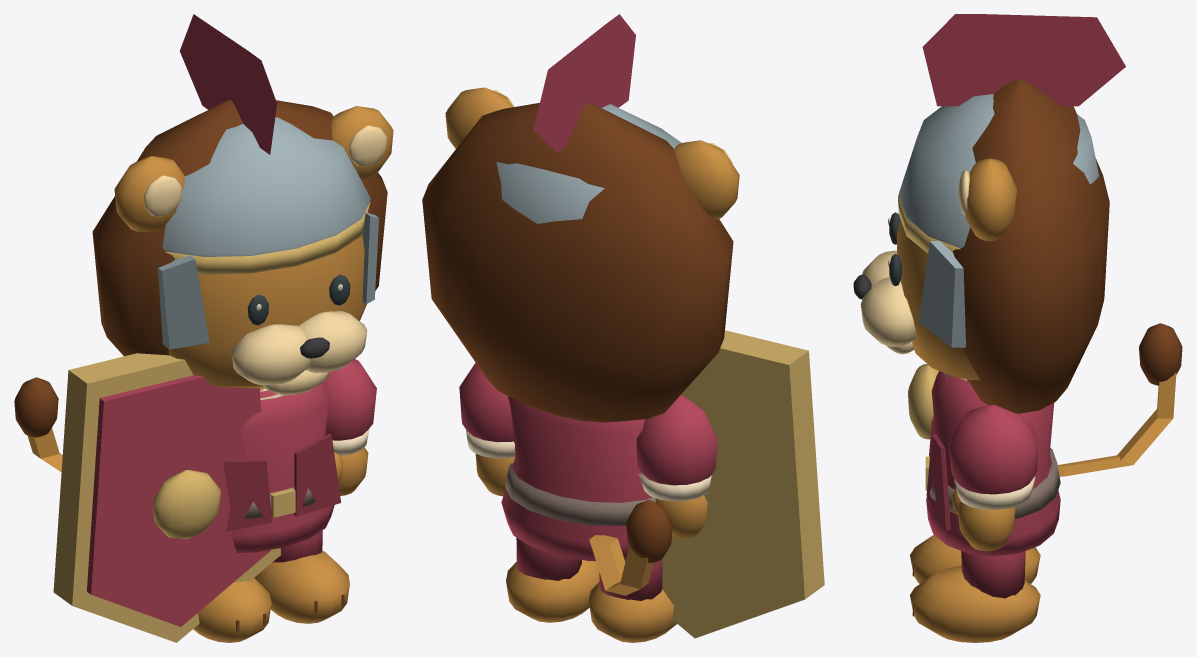
Rendered from guard.glb.
The picture shows the model from 3 angles, left to right: view 1: azimuth 30°, elevation 25°; view 2: azimuth 150°, elevation 25°; view 3: azimuth 270°, elevation 25°; orthographic projection. The views are drawn at different scales.
Parts seen in each view (by area): view 1: Regional shield face, Regional helmet, Lion full mane, Shield gold rim, Animal cheek head, Short folded tunic, Roman horsehair fan, Soft animal paw.001, Lion muzzle, Roman cheekplate, Shield boss, Soft animal paw (+17 smaller); view 2: Lion full mane, Shield gold rim, Short folded tunic, Roman horsehair fan, Puff sleeve, Regional helmet, Soft animal paw.001, Soft animal paw, Lion round ear, Broad leather belt, Puff sleeve.001, Curved animal tail (+8 smaller); view 3: Lion full mane, Roman horsehair fan, Regional helmet, Short folded tunic, Puff sleeve.001, Soft animal paw.001, Roman cheekplate.001, Animal cheek head, Lion round ear.001, Lion muzzle.001, Curved animal tail, Stubby trouser.001 (+9 smaller).
Boxes of the visible parts, x1,y1,x2,y2 form: Regional shield face: [87, 375, 270, 626]; Regional helmet: [162, 117, 370, 256]; Lion full mane: [92, 100, 387, 356]; Shield gold rim: [53, 353, 280, 642]; Animal cheek head: [168, 234, 366, 388]; Short folded tunic: [231, 382, 334, 552]; Roman horsehair fan: [180, 14, 276, 154]; Soft animal paw.001: [254, 550, 349, 623]; Lion muzzle: [231, 324, 310, 385]; Roman cheekplate: [158, 255, 209, 349]; Shield boss: [152, 470, 220, 538]; Soft animal paw: [193, 578, 271, 642]; Lion full mane: [422, 102, 733, 422]; Shield gold rim: [662, 330, 824, 638]; Short folded tunic: [501, 396, 672, 561]; Roman horsehair fan: [533, 14, 635, 152]; Puff sleeve: [636, 395, 717, 485]; Regional helmet: [496, 104, 681, 223]; Soft animal paw.001: [506, 560, 599, 622]; Soft animal paw: [588, 581, 676, 642]; Lion round ear: [674, 140, 739, 219]; Broad leather belt: [505, 463, 655, 525]; Puff sleeve.001: [459, 362, 513, 442]; Curved animal tail: [589, 535, 653, 595]; Lion full mane: [953, 79, 1109, 413]; Roman horsehair fan: [922, 14, 1125, 106]; Regional helmet: [899, 94, 1098, 247]; Short folded tunic: [926, 371, 1060, 556]; Puff sleeve.001: [948, 404, 1038, 494]; Soft animal paw.001: [910, 566, 1040, 642]; Roman cheekplate.001: [919, 241, 965, 347]; Animal cheek head: [897, 219, 979, 380]; Lion round ear.001: [965, 158, 1016, 241]; Lion muzzle.001: [860, 277, 916, 346]; Curved animal tail: [1057, 371, 1176, 476]; Stubby trouser.001: [961, 551, 1025, 598].
Size of the model in its own units: 1.14 by 1.82 by 0.905.
